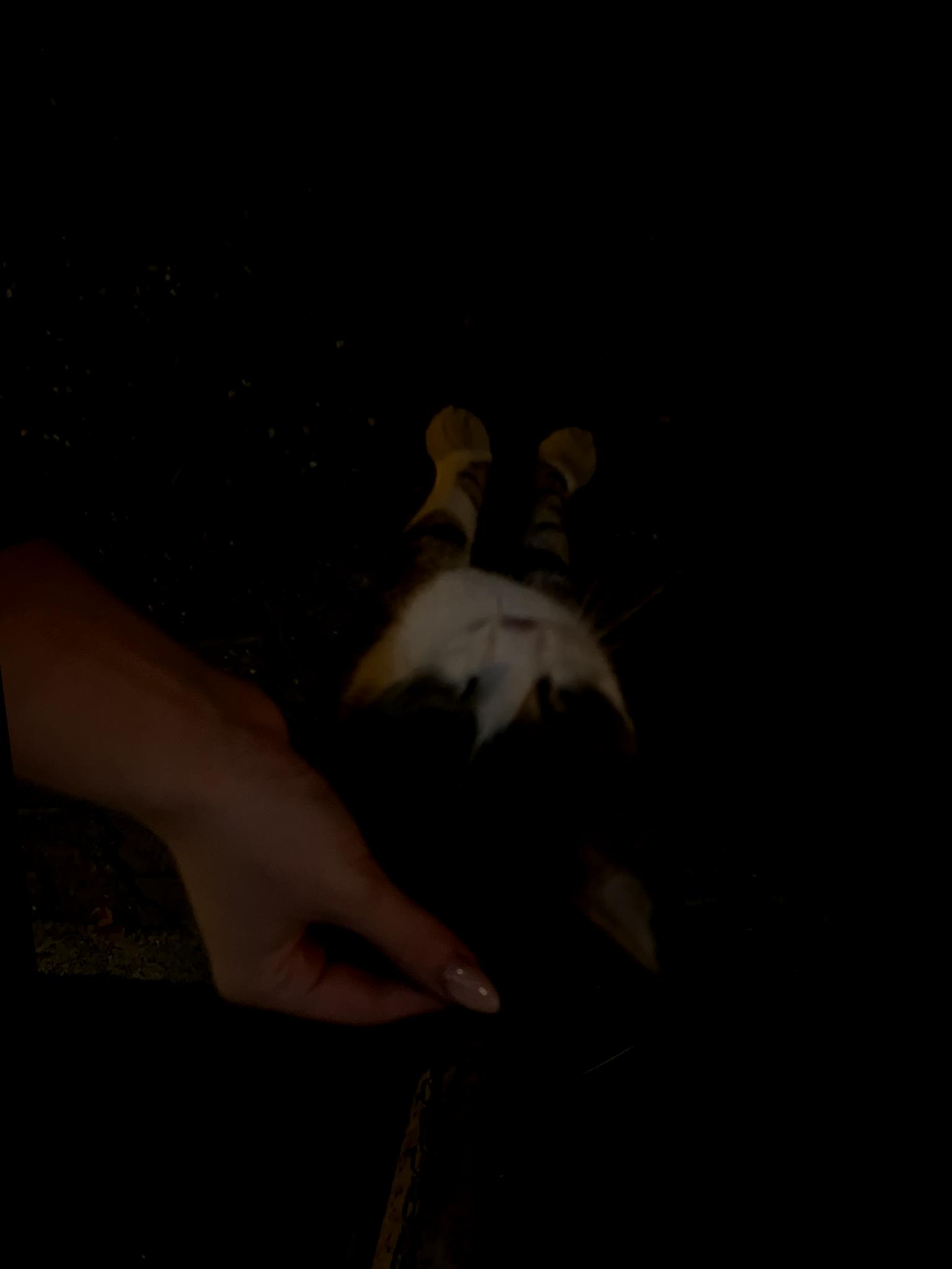macka: (139, 385, 693, 1131)
